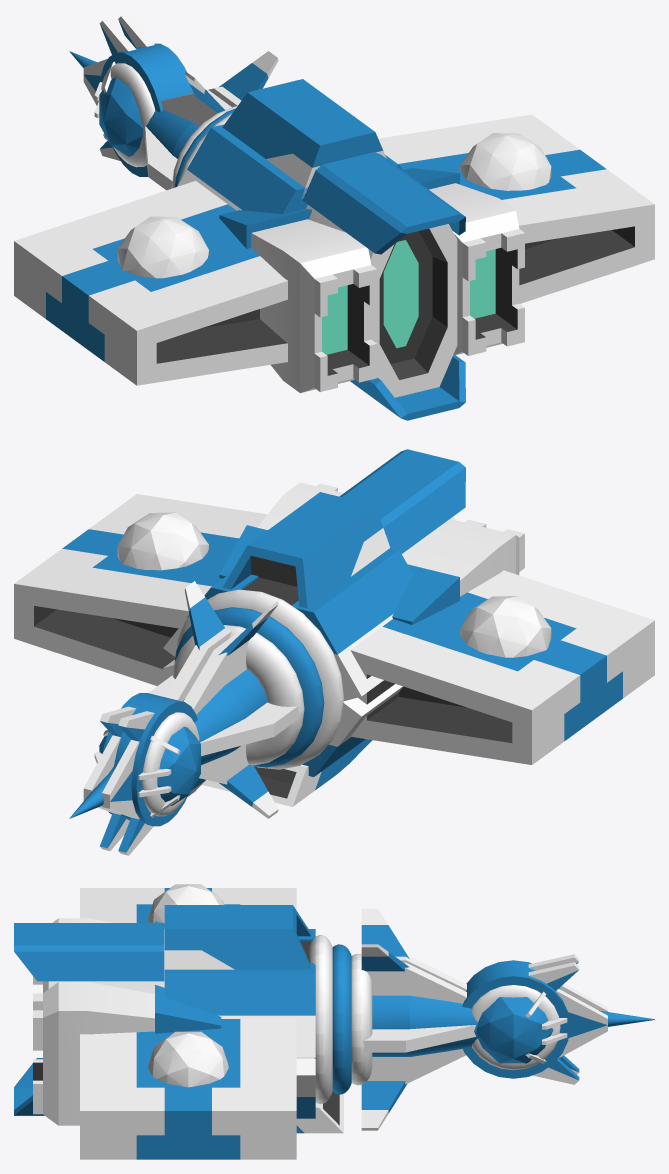
File: Spaceship Eagle.fbx
The picture shows the model from 3 angles, top to bottom: view 1: azimuth 30°, elevation 25°; view 2: azimuth 150°, elevation 25°; view 3: azimuth 270°, elevation 25°; orthographic projection. The views are drawn at different scales.
Parts seen in each view (by area): view 1: engine_high_49, engine_side_56, engine_default_53, engine_side_57, engine_side_43, engine_default_54, engine_intake_40, ship_sidePanel_41, engine_side_44, sphere_vertex_61, sphere_vertex_62, cylinder_hollow_3 (+8 smaller); view 2: engine_side_43, engine_side_44, engine_intake_40, engine_side_56, engine_default_53, engine_high_49, ship_sidePanel_41, cylinder_donut_38, engine_side_57, cylinder_donut_36, sphere_vertex_61, cylinder_donut_37 (+24 smaller); view 3: engine_side_44, engine_side_57, engine_default_54, engine_high_49, engine_intake_40, ship_sidePanel_42, sphere_vertex_63, cylinder_hollow_3, sphere_vertex_62, cylinder_donut_38, cylinder_donut_37, cylinder_cone_27 (+20 smaller).
Boxes of the visible parts, x1,y1,x2,y2 form: engine_high_49: (302,152,465,420); engine_side_56: (72,234,287,385); engine_default_53: (219,208,376,393); engine_side_57: (460,157,654,303); engine_side_43: (14,180,236,341); engine_default_54: (403,168,524,355); engine_intake_40: (222,79,386,197); ship_sidePanel_41: (177,124,307,213); engine_side_44: (378,114,590,181); sphere_vertex_61: (117,216,208,278); sphere_vertex_62: (460,133,551,190); cylinder_hollow_3: (100,43,193,176); engine_side_43: (350,612,596,764); engine_side_44: (14,537,226,685); engine_intake_40: (222,492,390,608); engine_side_56: (433,570,654,717); engine_default_53: (392,519,524,624); engine_high_49: (339,449,465,561); ship_sidePanel_41: (292,548,412,701); cylinder_donut_38: (176,589,343,769); engine_side_57: (73,494,267,562); cylinder_donut_36: (172,625,304,765); sphere_vertex_61: (460,596,551,657); cylinder_donut_37: (174,607,324,767); engine_side_44: (183,1019,296,1159); engine_side_57: (80,1031,192,1159); engine_default_54: (33,982,221,1125); engine_high_49: (14,923,164,1115); engine_intake_40: (164,905,311,969); ship_sidePanel_42: (164,963,315,1058); sphere_vertex_63: (476,997,553,1063); cylinder_hollow_3: (462,960,569,1078); sphere_vertex_62: (148,1031,228,1087); cylinder_donut_38: (309,935,332,1103); cylinder_donut_37: (332,944,351,1094); cylinder_cone_27: (410,995,654,1056).
Bounding box in the file's own units: 56 × 23 × 68.
